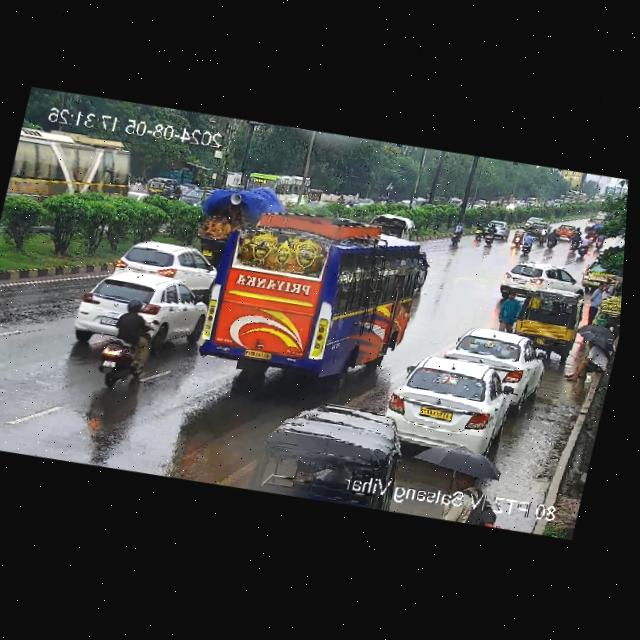bus: (195, 194, 442, 409), (5, 123, 137, 213), (240, 164, 315, 202)
car: (391, 344, 524, 469), (64, 262, 212, 358), (250, 393, 401, 479), (460, 319, 553, 397), (108, 230, 221, 288), (507, 280, 584, 354), (498, 256, 578, 302), (523, 217, 551, 238), (487, 220, 510, 239), (495, 218, 513, 237), (556, 221, 570, 237), (528, 215, 546, 227), (531, 219, 547, 231)
motorcycle: (97, 289, 162, 394), (449, 216, 468, 246), (471, 215, 488, 243), (544, 226, 560, 251), (576, 235, 592, 260), (485, 222, 499, 248), (512, 223, 527, 247), (593, 227, 607, 251), (568, 231, 583, 253), (521, 232, 534, 255), (536, 224, 549, 247), (586, 227, 597, 243), (568, 225, 581, 238)
person: (571, 330, 616, 384), (583, 277, 609, 326), (496, 291, 522, 335)
